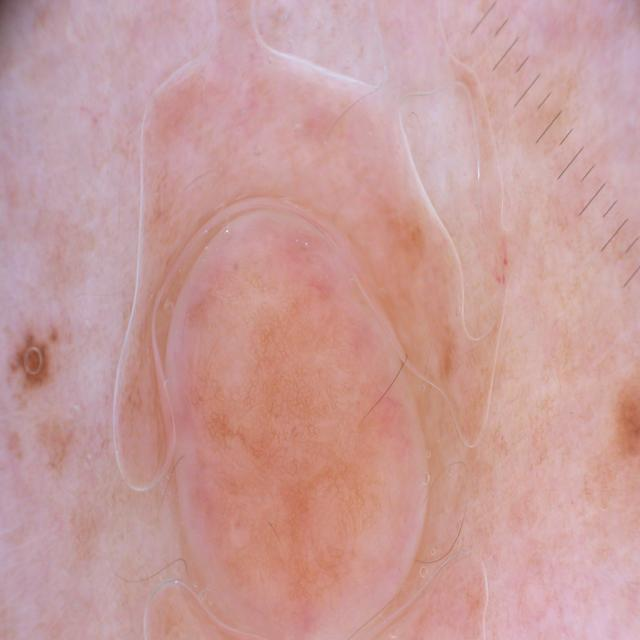Melanoma: (119, 211, 494, 640)
